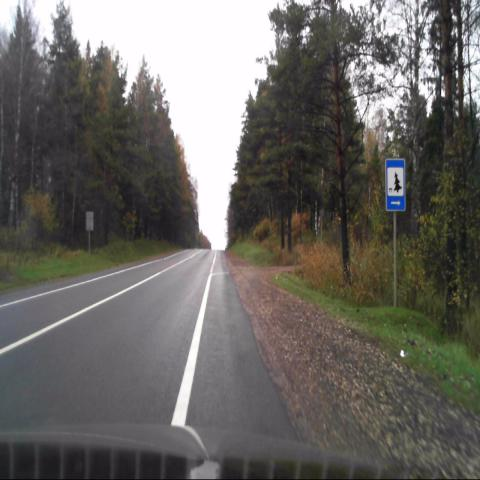7_11: (386, 158, 405, 211)
